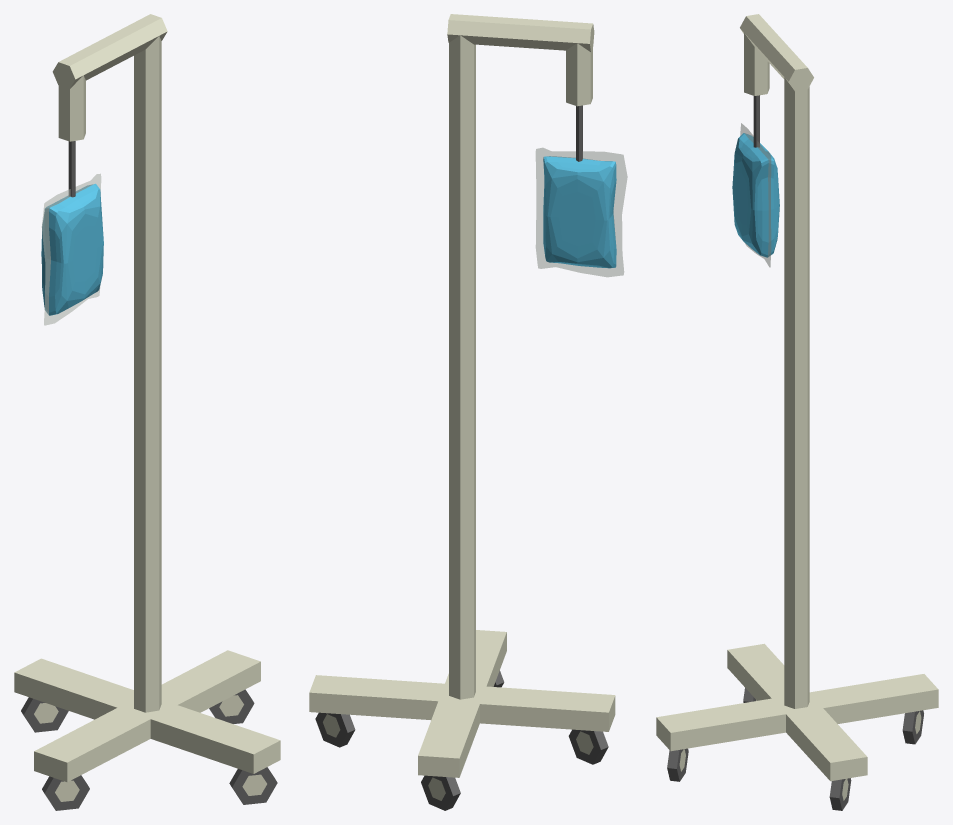
The model's file is fluid-bag-hospital.fbx.
3 views of the same model, side by side, from view 1: azimuth 30°, elevation 25°; view 2: azimuth 150°, elevation 25°; view 3: azimuth 270°, elevation 25° (orthographic). The views are drawn at different scales.
Visible parts, largest first — view 1: fluid-bag-hospital; view 2: fluid-bag-hospital; view 3: fluid-bag-hospital.
Boxes of the visible parts, x1=… form: fluid-bag-hospital: x1=14, y1=14, x2=280, y2=810; fluid-bag-hospital: x1=309, y1=14, x2=627, y2=810; fluid-bag-hospital: x1=656, y1=14, x2=938, y2=810.
Size of the model in its own units: 124 by 330 by 122.
